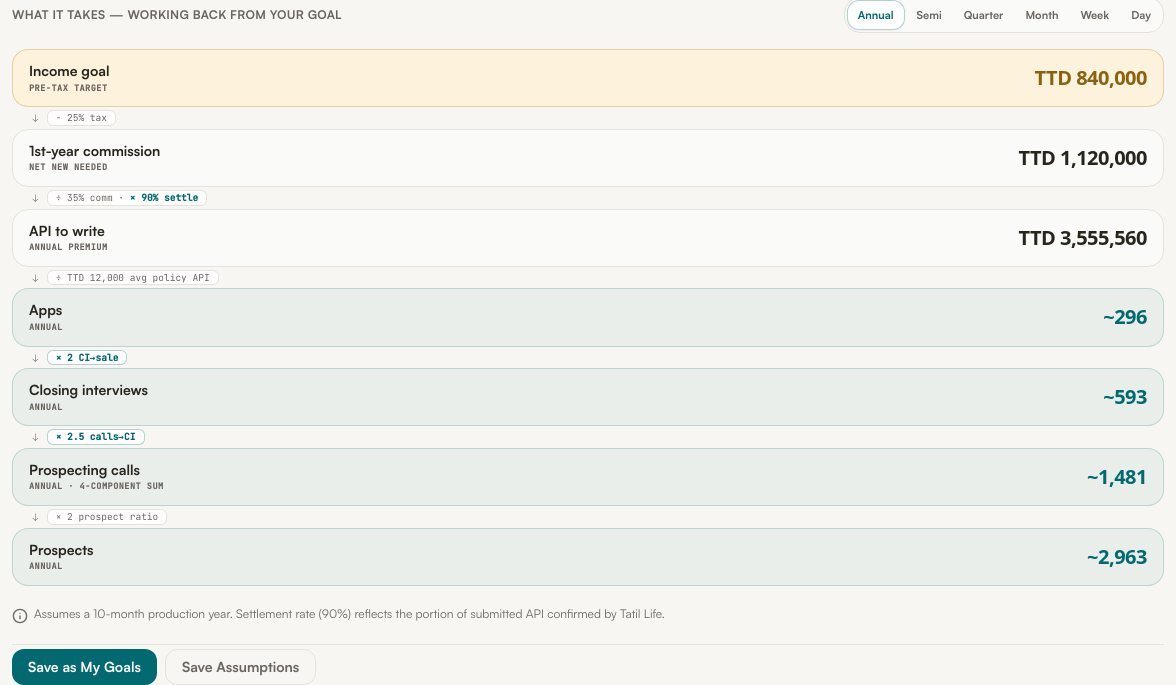
Test: GoalDecompositionTab — D5 parked RTL baseline › backward-compat: bare number in localStorage loads incomeGoal without preTaxAlreadyApplied
The image size is (1176, 685).
(page scrolled)
Click the button with test id "commission-save-goal-btn" at (84, 667), box [12, 649, 157, 684]
(page scrolled)
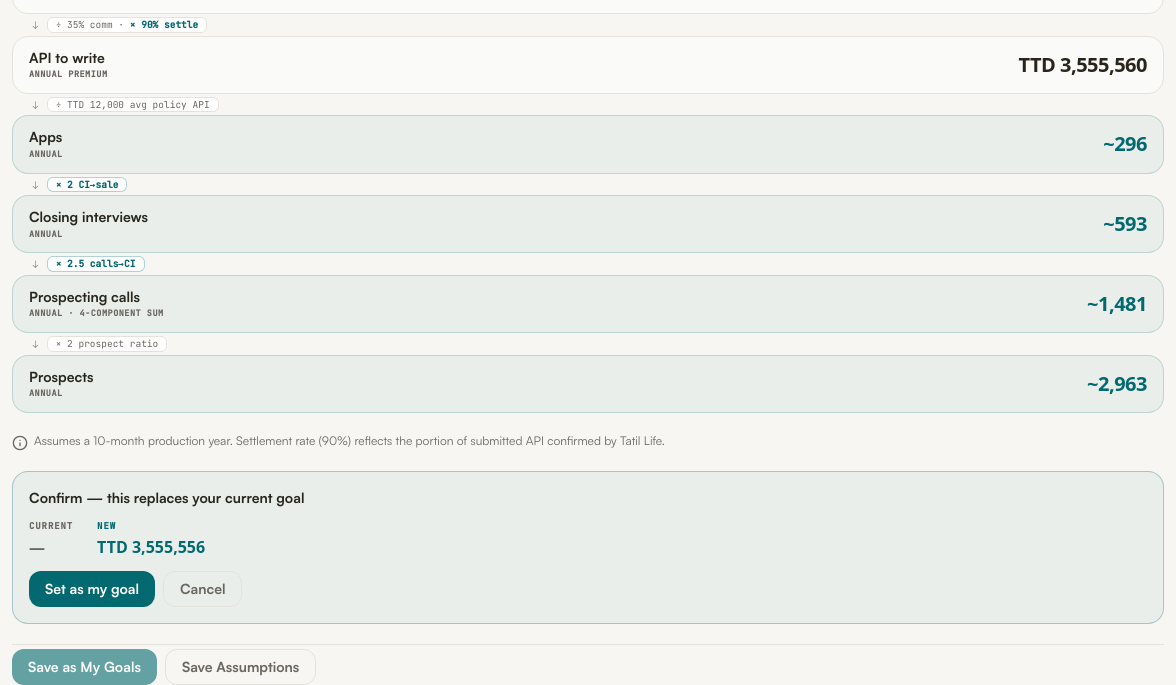
Check: the element with test id "commission-confirm-dialog" is shown, box [12, 471, 1164, 624]
